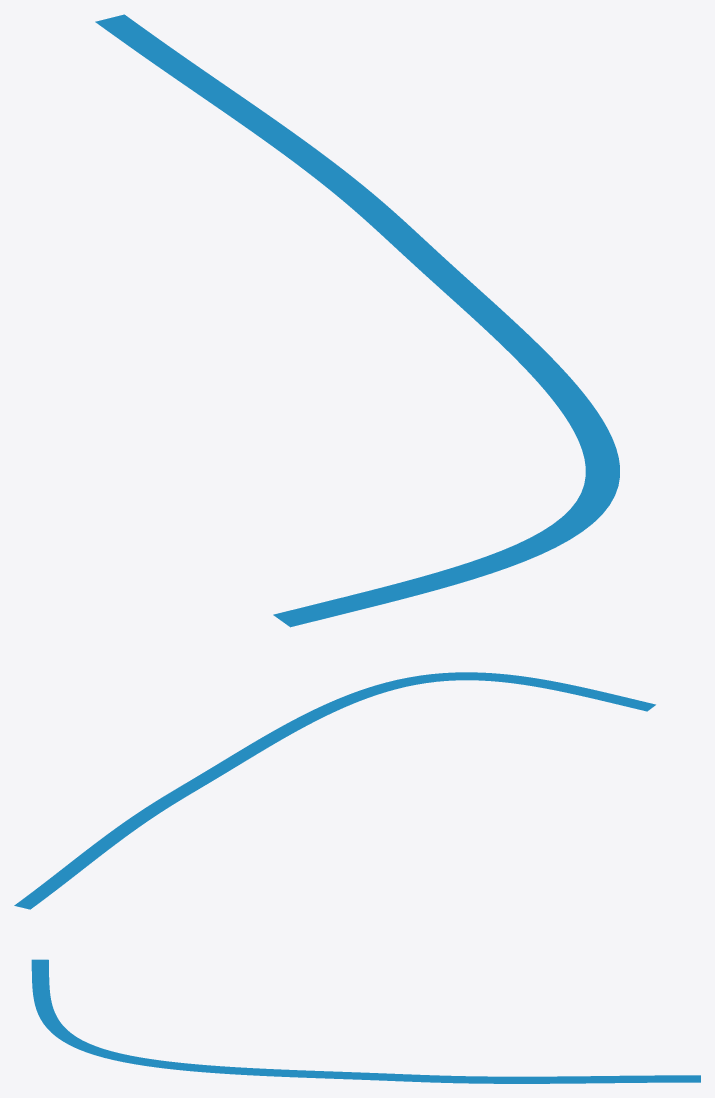
The model's file is guide.glb.
3 views of the same model, one above another, from view 1: azimuth 30°, elevation 25°; view 2: azimuth 150°, elevation 25°; view 3: azimuth 270°, elevation 25° (orthographic). The views are drawn at different scales.
Parts seen in each view (by area): view 1: static; view 2: static; view 3: static.
Part boxes in pixels (x1,y1,x2,y2): static: (95,14,619,627); static: (14,672,655,909); static: (31,959,700,1083).
Bounding box in the file's own units: 6.42 × 0 × 12.77.
